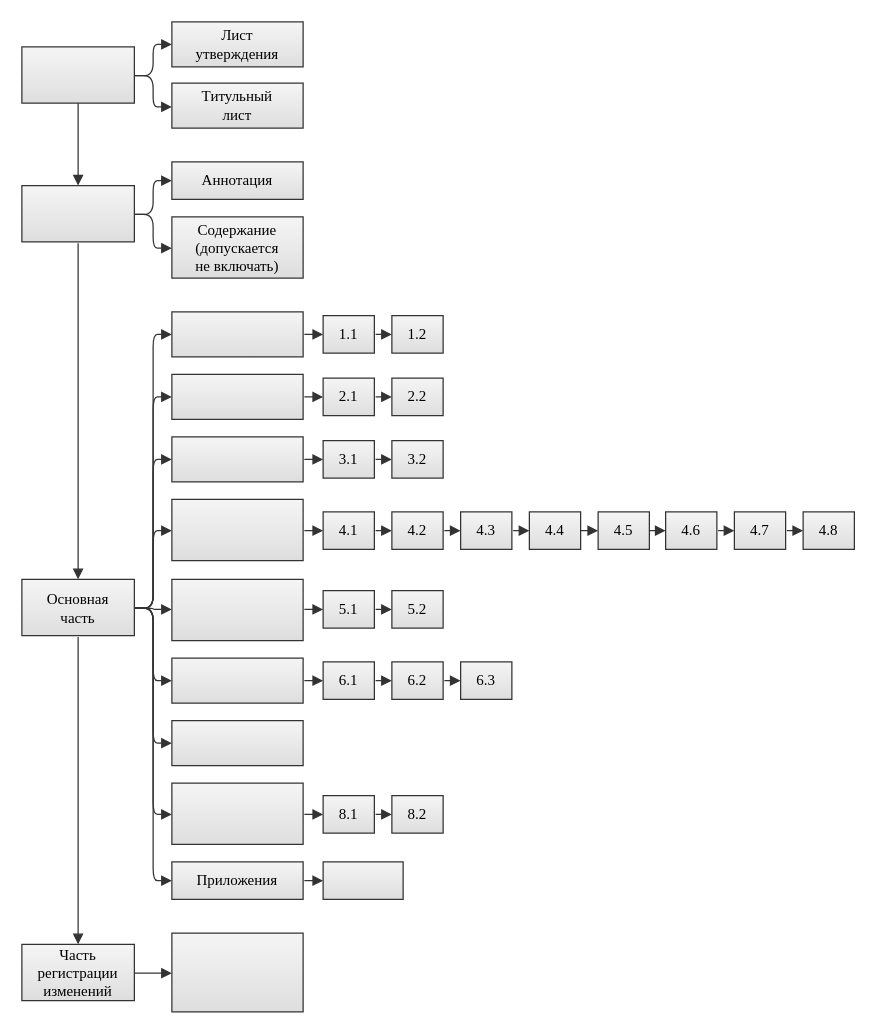
The diagram is 876 pixels wide and 1034 high, and some of its shapes have lost their labels. The centre of each missing label's shape, as x and y in pixels:
Информационная часть: the point at 77,213
Лист регистрации изменений (допускается не включать): the point at 237,972
Прил. 1: the point at 362,880
Раздел 1 Введение: the point at 237,334
Раздел 2 Основания: the point at 237,396
Раздел 3 Назначение: the point at 237,459
Раздел 4 Требования к программе: the point at 237,529
Раздел 5 Требования к документации: the point at 237,609
Раздел 6 ТЭП: the point at 237,680
Раздел 7 Стадии и этапы: the point at 237,742
Раздел 8 Контроль и приёмка: the point at 237,813
Титульная часть: the point at 77,74
